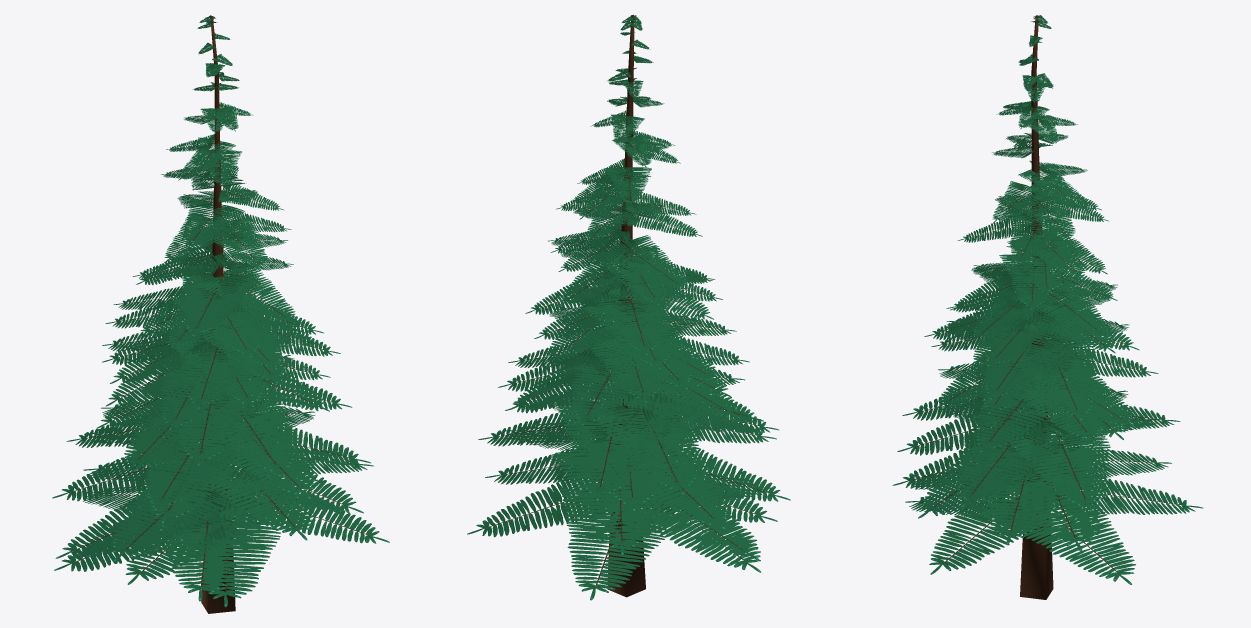
The model's file is pine_tree_LOD1.fbx.
3 views of the same model, side by side, from view 1: azimuth 30°, elevation 25°; view 2: azimuth 150°, elevation 25°; view 3: azimuth 270°, elevation 25° (orthographic). The views are drawn at different scales.
Parts seen in each view (by area): view 1: Pine_Tree; view 2: Pine_Tree; view 3: Pine_Tree.
Part boxes in pixels (x1,y1,x2,y2): Pine_Tree: [52, 15, 389, 613]; Pine_Tree: [467, 14, 790, 600]; Pine_Tree: [892, 15, 1203, 599].
Size of the model in its own units: 435 by 710 by 429.
2 materials, 1 textured.
